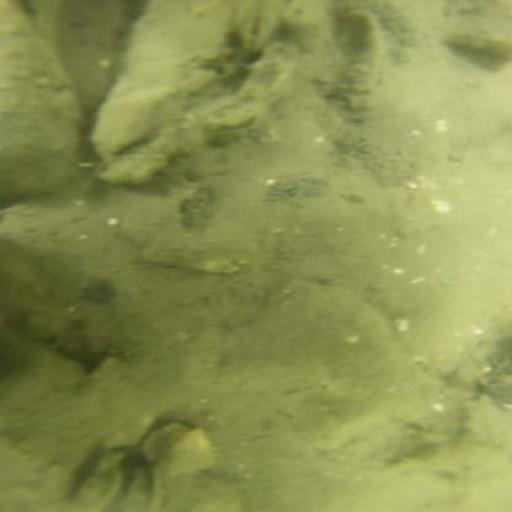Oyster-Closed: (1, 1, 78, 200)
Oyster-Open: (60, 453, 179, 512)
